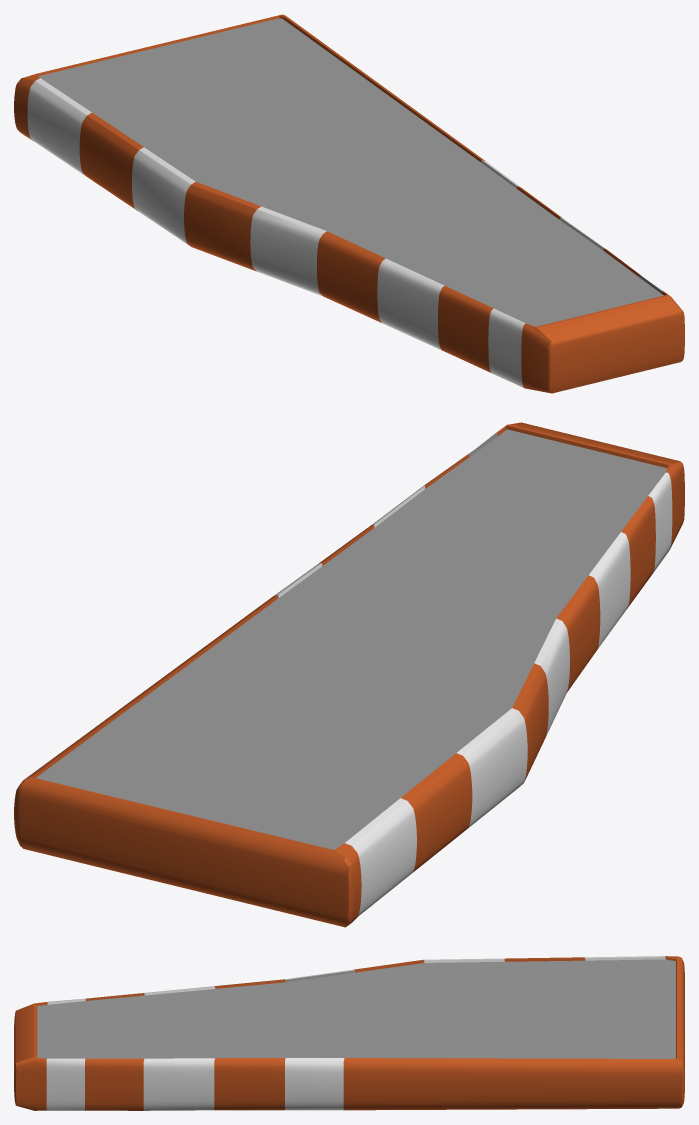
File: BETON.fbx
The picture shows the model from 3 angles, top to bottom: view 1: azimuth 30°, elevation 25°; view 2: azimuth 150°, elevation 25°; view 3: azimuth 270°, elevation 25°; orthographic projection. The views are drawn at different scales.
Visible parts, largest first — view 1: GİŞE ALTI KALDIRIM; view 2: GİŞE ALTI KALDIRIM; view 3: GİŞE ALTI KALDIRIM.
Part boxes in pixels (box(x1,y1,x2,y2)): GİŞE ALTI KALDIRIM: box(14, 14, 684, 393); GİŞE ALTI KALDIRIM: box(14, 422, 684, 927); GİŞE ALTI KALDIRIM: box(14, 956, 684, 1110).
Bounding box in the file's own units: 156 × 35.38 × 398.
